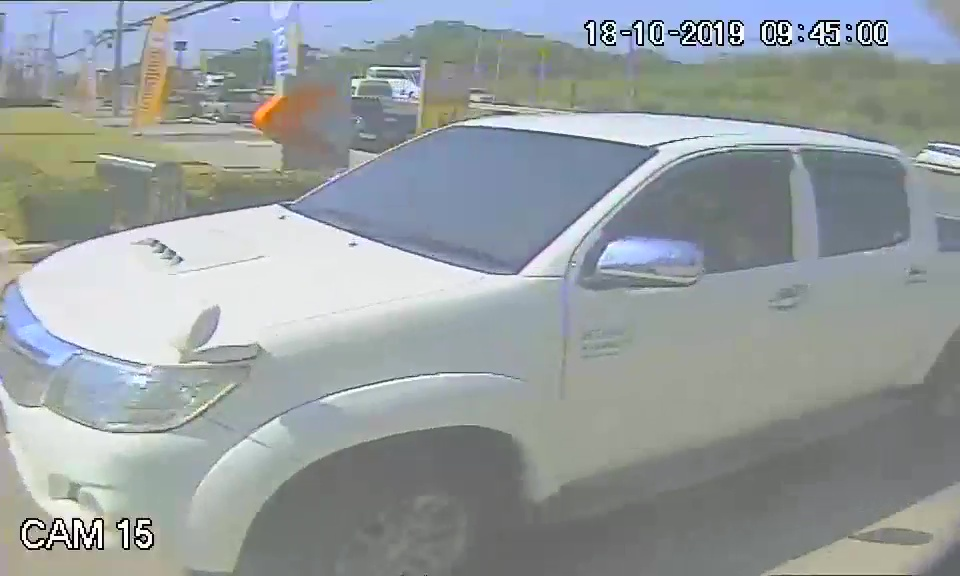pickup: (3, 112, 950, 513)
